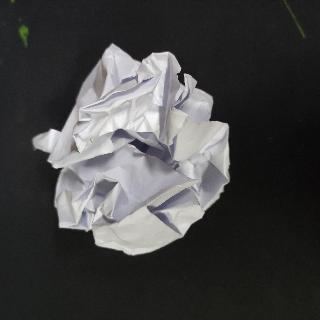8/可回收垃圾/纸: (30, 41, 232, 258)
